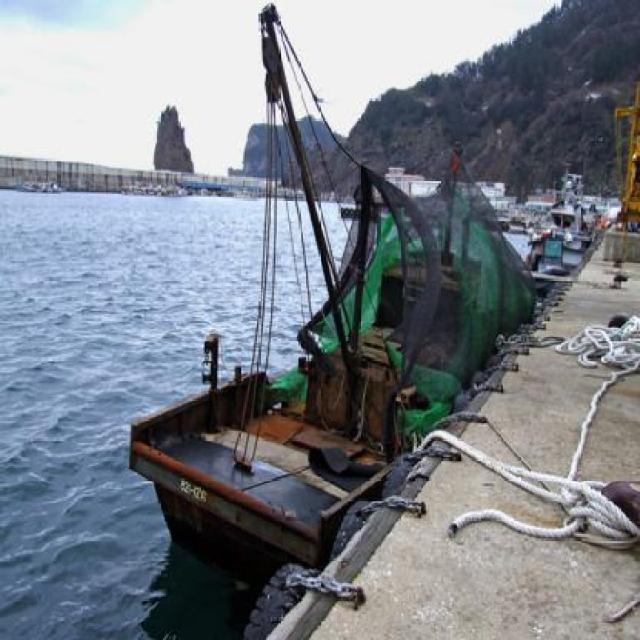fish-b: (107, 156, 549, 574)
